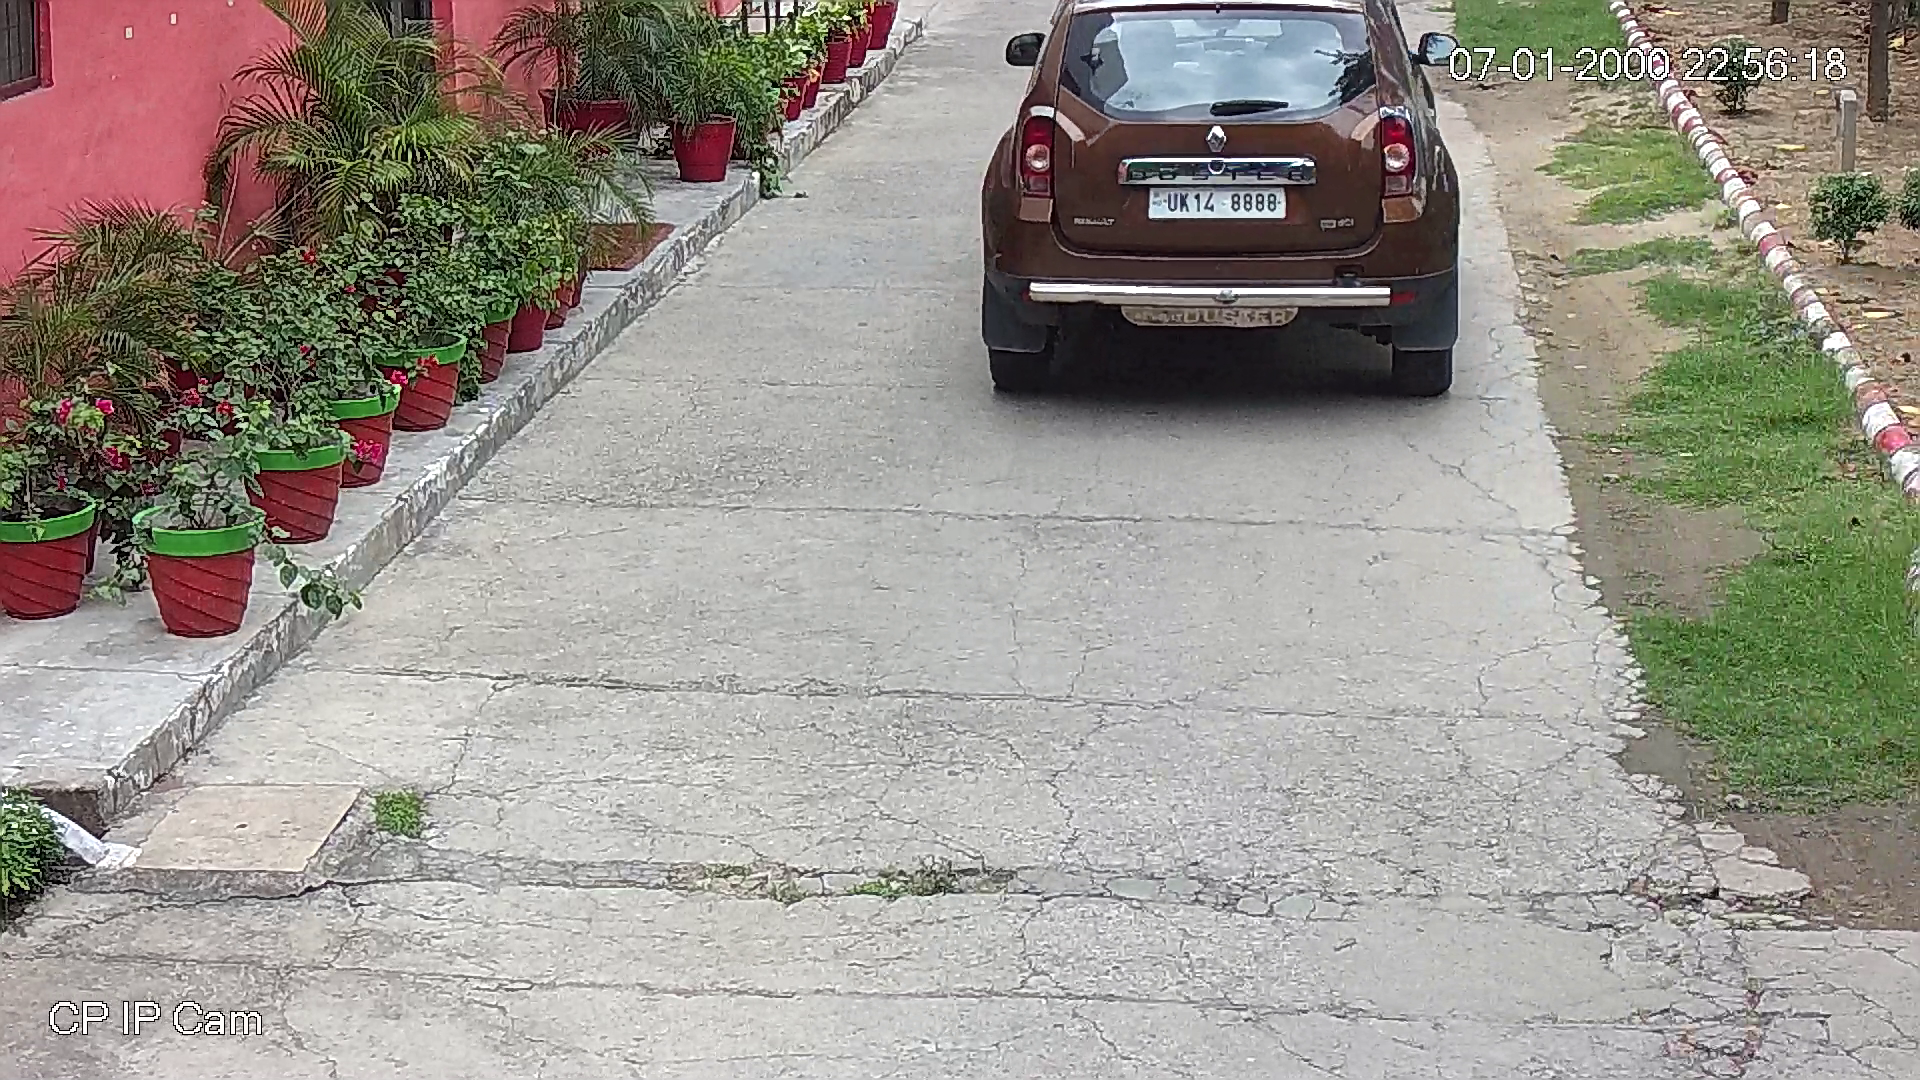plate: (1149, 179, 1290, 223)
